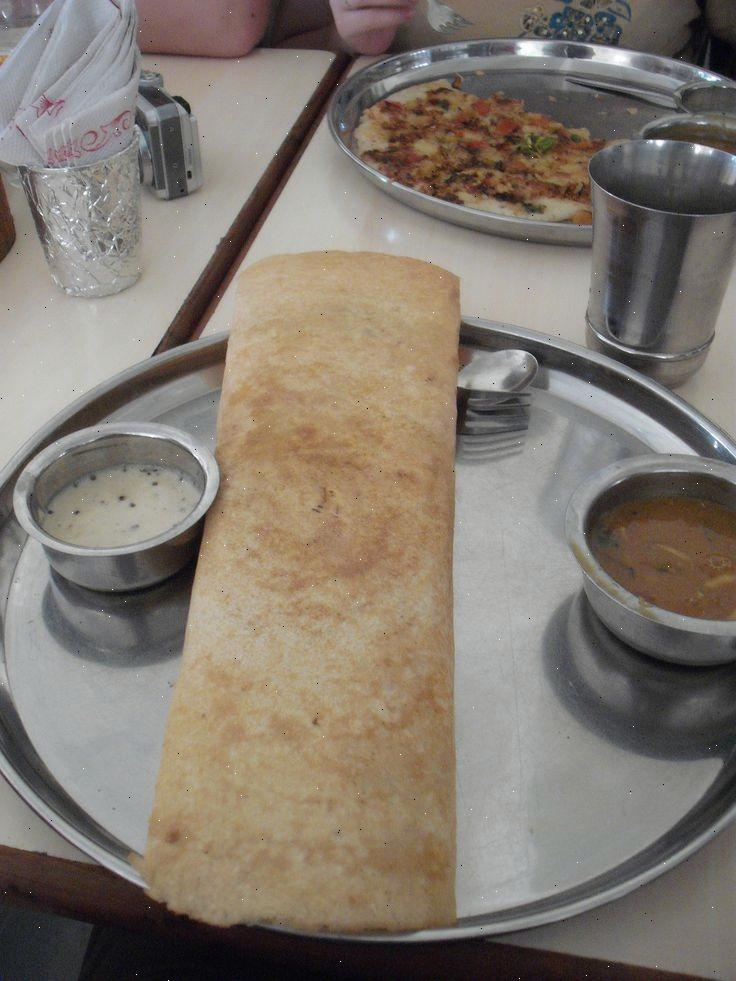dosa: (189, 242, 498, 938)
